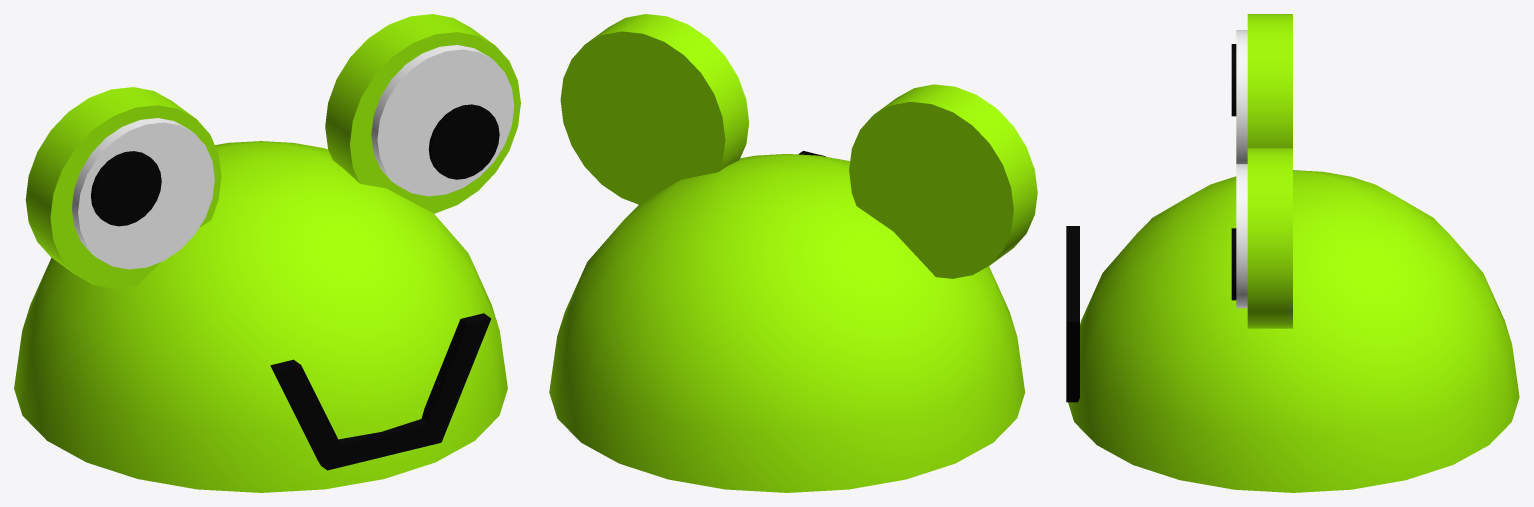
File: Frog.fbx
The picture shows the model from 3 angles, left to right: view 1: azimuth 30°, elevation 25°; view 2: azimuth 150°, elevation 25°; view 3: azimuth 270°, elevation 25°; orthographic projection. The views are drawn at different scales.
Parts seen in each view (by area): view 1: mergedBlocks; view 2: mergedBlocks; view 3: mergedBlocks.
Boxes of the visible parts, left/top/right/bottom form: mergedBlocks: left=14, top=14, right=520, bottom=492; mergedBlocks: left=549, top=14, right=1037, bottom=492; mergedBlocks: left=1066, top=14, right=1519, bottom=492.
Bounding box in the file's own units: 11 × 7.5 × 10.
